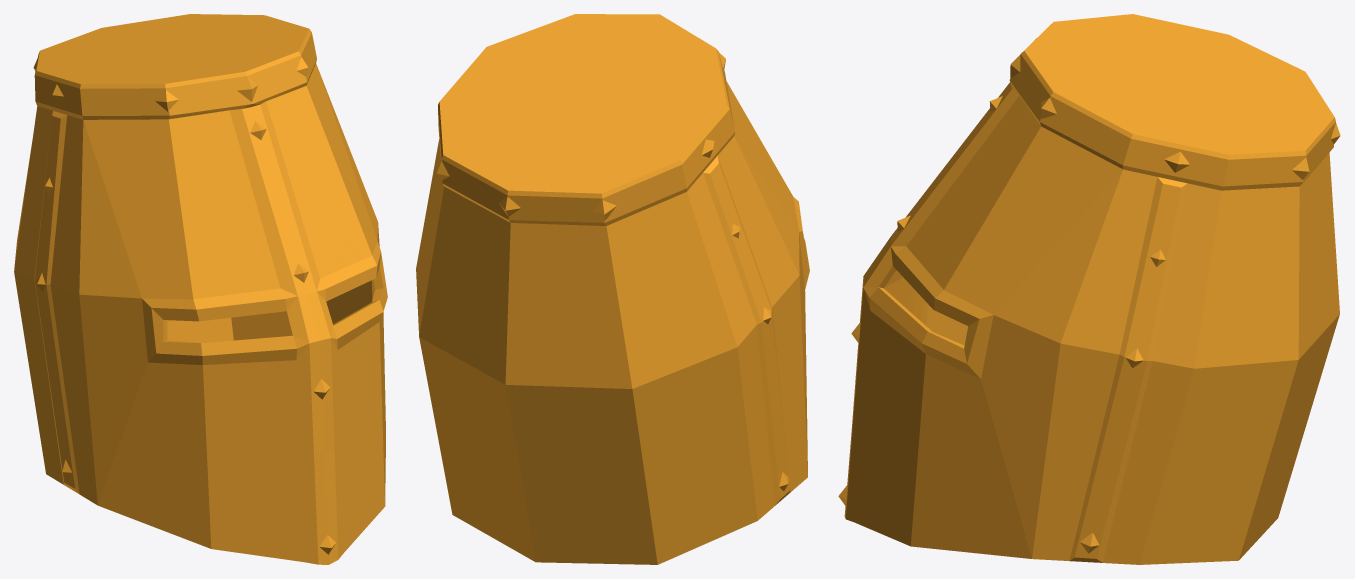
Rendered from SM_Helmet_Great_Helm_A_Placed.fbx.
3 renders of one model, left to right at view 1: azimuth 30°, elevation 25°; view 2: azimuth 150°, elevation 25°; view 3: azimuth 270°, elevation 25°, orthographic. The views are drawn at different scales.
Visible parts, largest first — view 1: helmet-great-helm-a-placed; view 2: helmet-great-helm-a-placed; view 3: helmet-great-helm-a-placed.
Boxes of the visible parts, box(x1,y1,x2,y2) form: helmet-great-helm-a-placed: box(14, 14, 387, 564); helmet-great-helm-a-placed: box(416, 14, 809, 564); helmet-great-helm-a-placed: box(838, 14, 1340, 564).
Size of the model in its own units: 0.2236 by 0.2948 by 0.2871.
